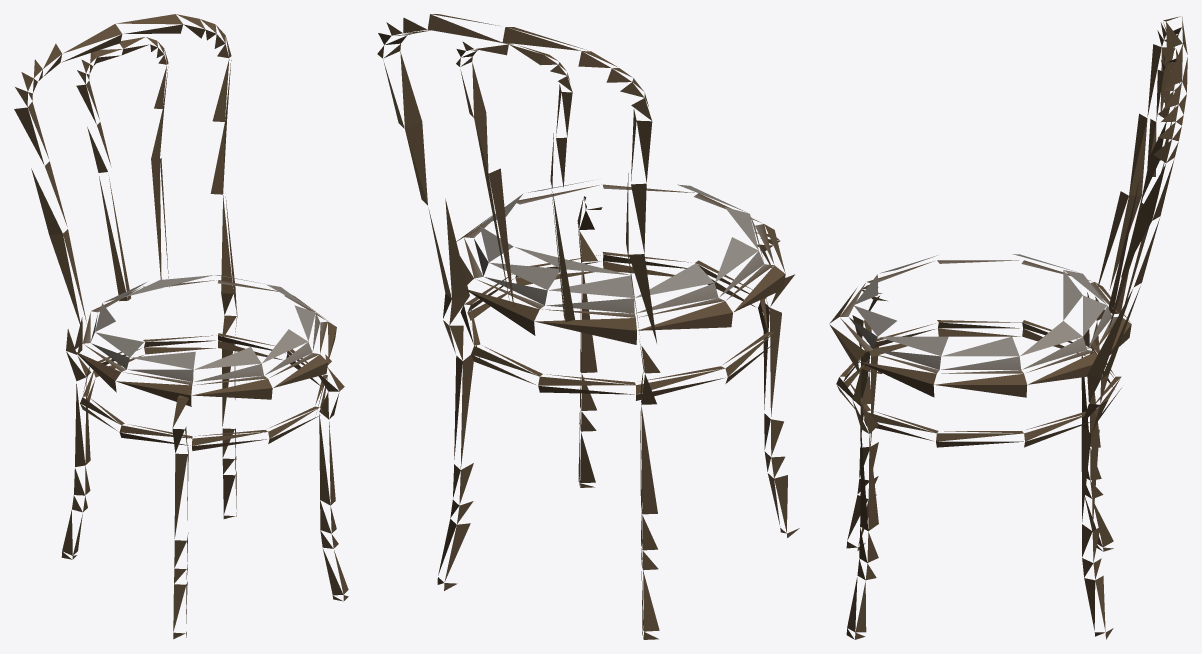
Rendered from meeting_chair_01.glb.
3 renders of one model, left to right at view 1: azimuth 30°, elevation 25°; view 2: azimuth 150°, elevation 25°; view 3: azimuth 270°, elevation 25°, orthographic. The views are drawn at different scales.
Parts seen in each view (by area): view 1: geometry_0; view 2: geometry_0; view 3: geometry_0.
Part boxes in pixels (x1,y1,x2,y2): geometry_0: (14, 14, 348, 639); geometry_0: (377, 14, 799, 639); geometry_0: (829, 16, 1187, 639).
Bounding box in the file's own units: 0.5072 × 1.07 × 0.6321.
